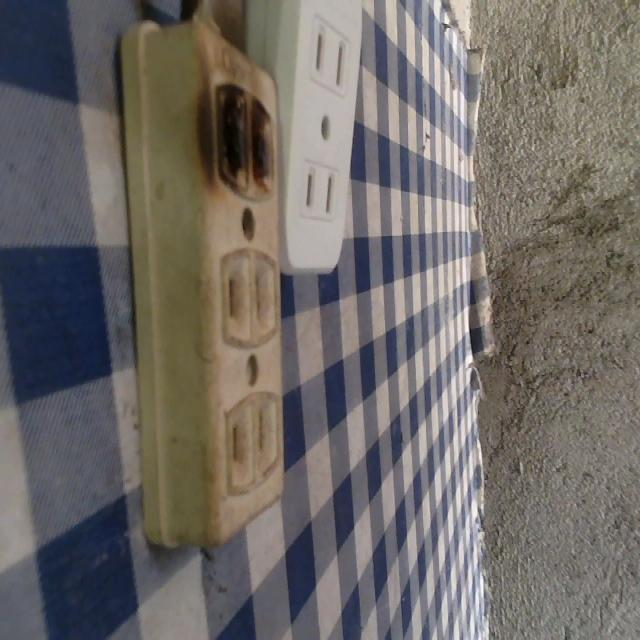-: (199, 69, 285, 204)
